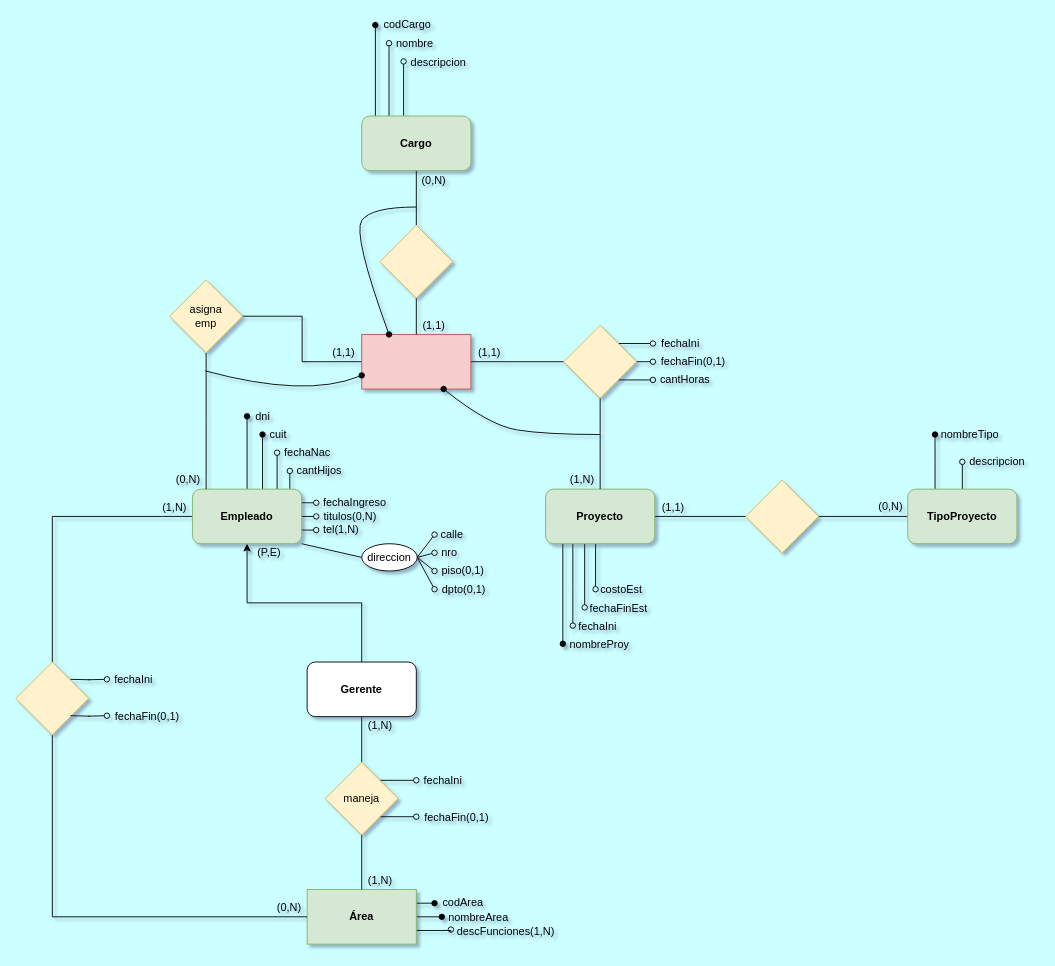
This 1055x966 diagram has some shape labels left out. Each missing label, with the centre of its shape:
"asigna cargo" belongs at (x=416, y=261).
"asigna proyecto" belongs at (x=600, y=361).
"Asignación" belongs at (x=416, y=361).
"es tipo" belongs at (x=782, y=516).
"trabaja" belongs at (x=52, y=698).
